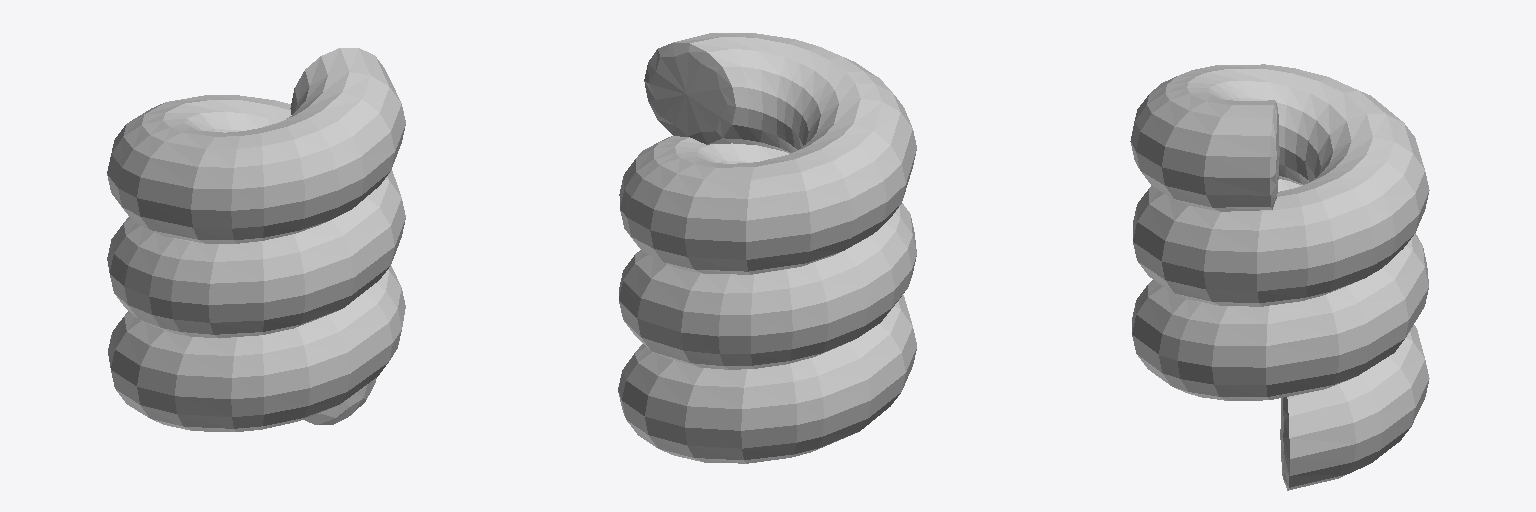
The model's file is helix_95.0.obj.
3 renders of one model, left to right at view 1: azimuth 30°, elevation 25°; view 2: azimuth 150°, elevation 25°; view 3: azimuth 270°, elevation 25°, orthographic.
Parts seen in each view (by area): view 1: helix:pHelix1; view 2: helix:pHelix1; view 3: helix:pHelix1.
Boxes of the visible parts, <box> form: helix:pHelix1: <box>107,48,405,431</box>; helix:pHelix1: <box>618,33,916,463</box>; helix:pHelix1: <box>1130,64,1429,490</box>.
Size of the model in its own units: 1.92 by 2.7 by 1.92.